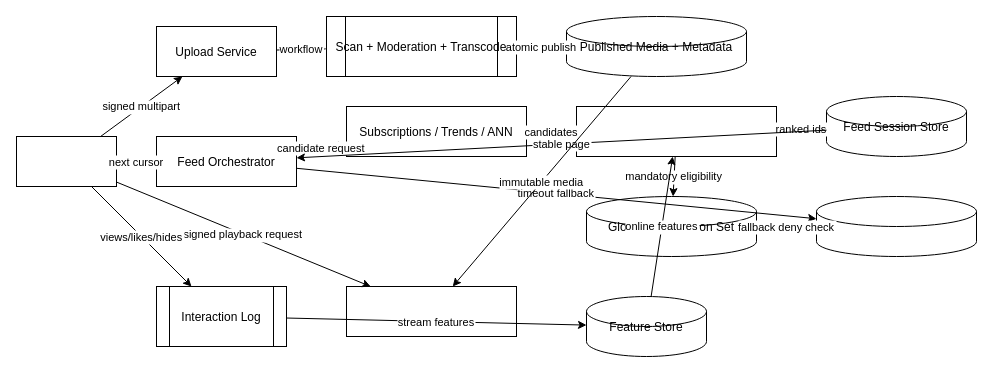
The diagram is 993 pixels wide and 373 high, and some of its shapes have lost their labels. The shapes that lost their labels are listed below. From the top down, each one's centre as x and y in pixels, then its label:
At [676,131]: "Eligibility + Ranking + Diversity".
At [66,161]: "Mobile App".
At [896,226]: "Safe Regional Fallback".
At [431,311]: "Origin Shield + Video CDN".
